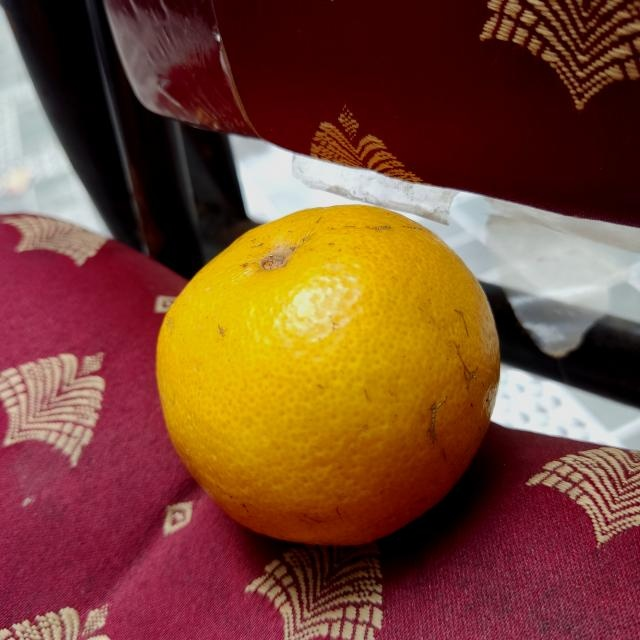agrume: (157, 205, 503, 547)
